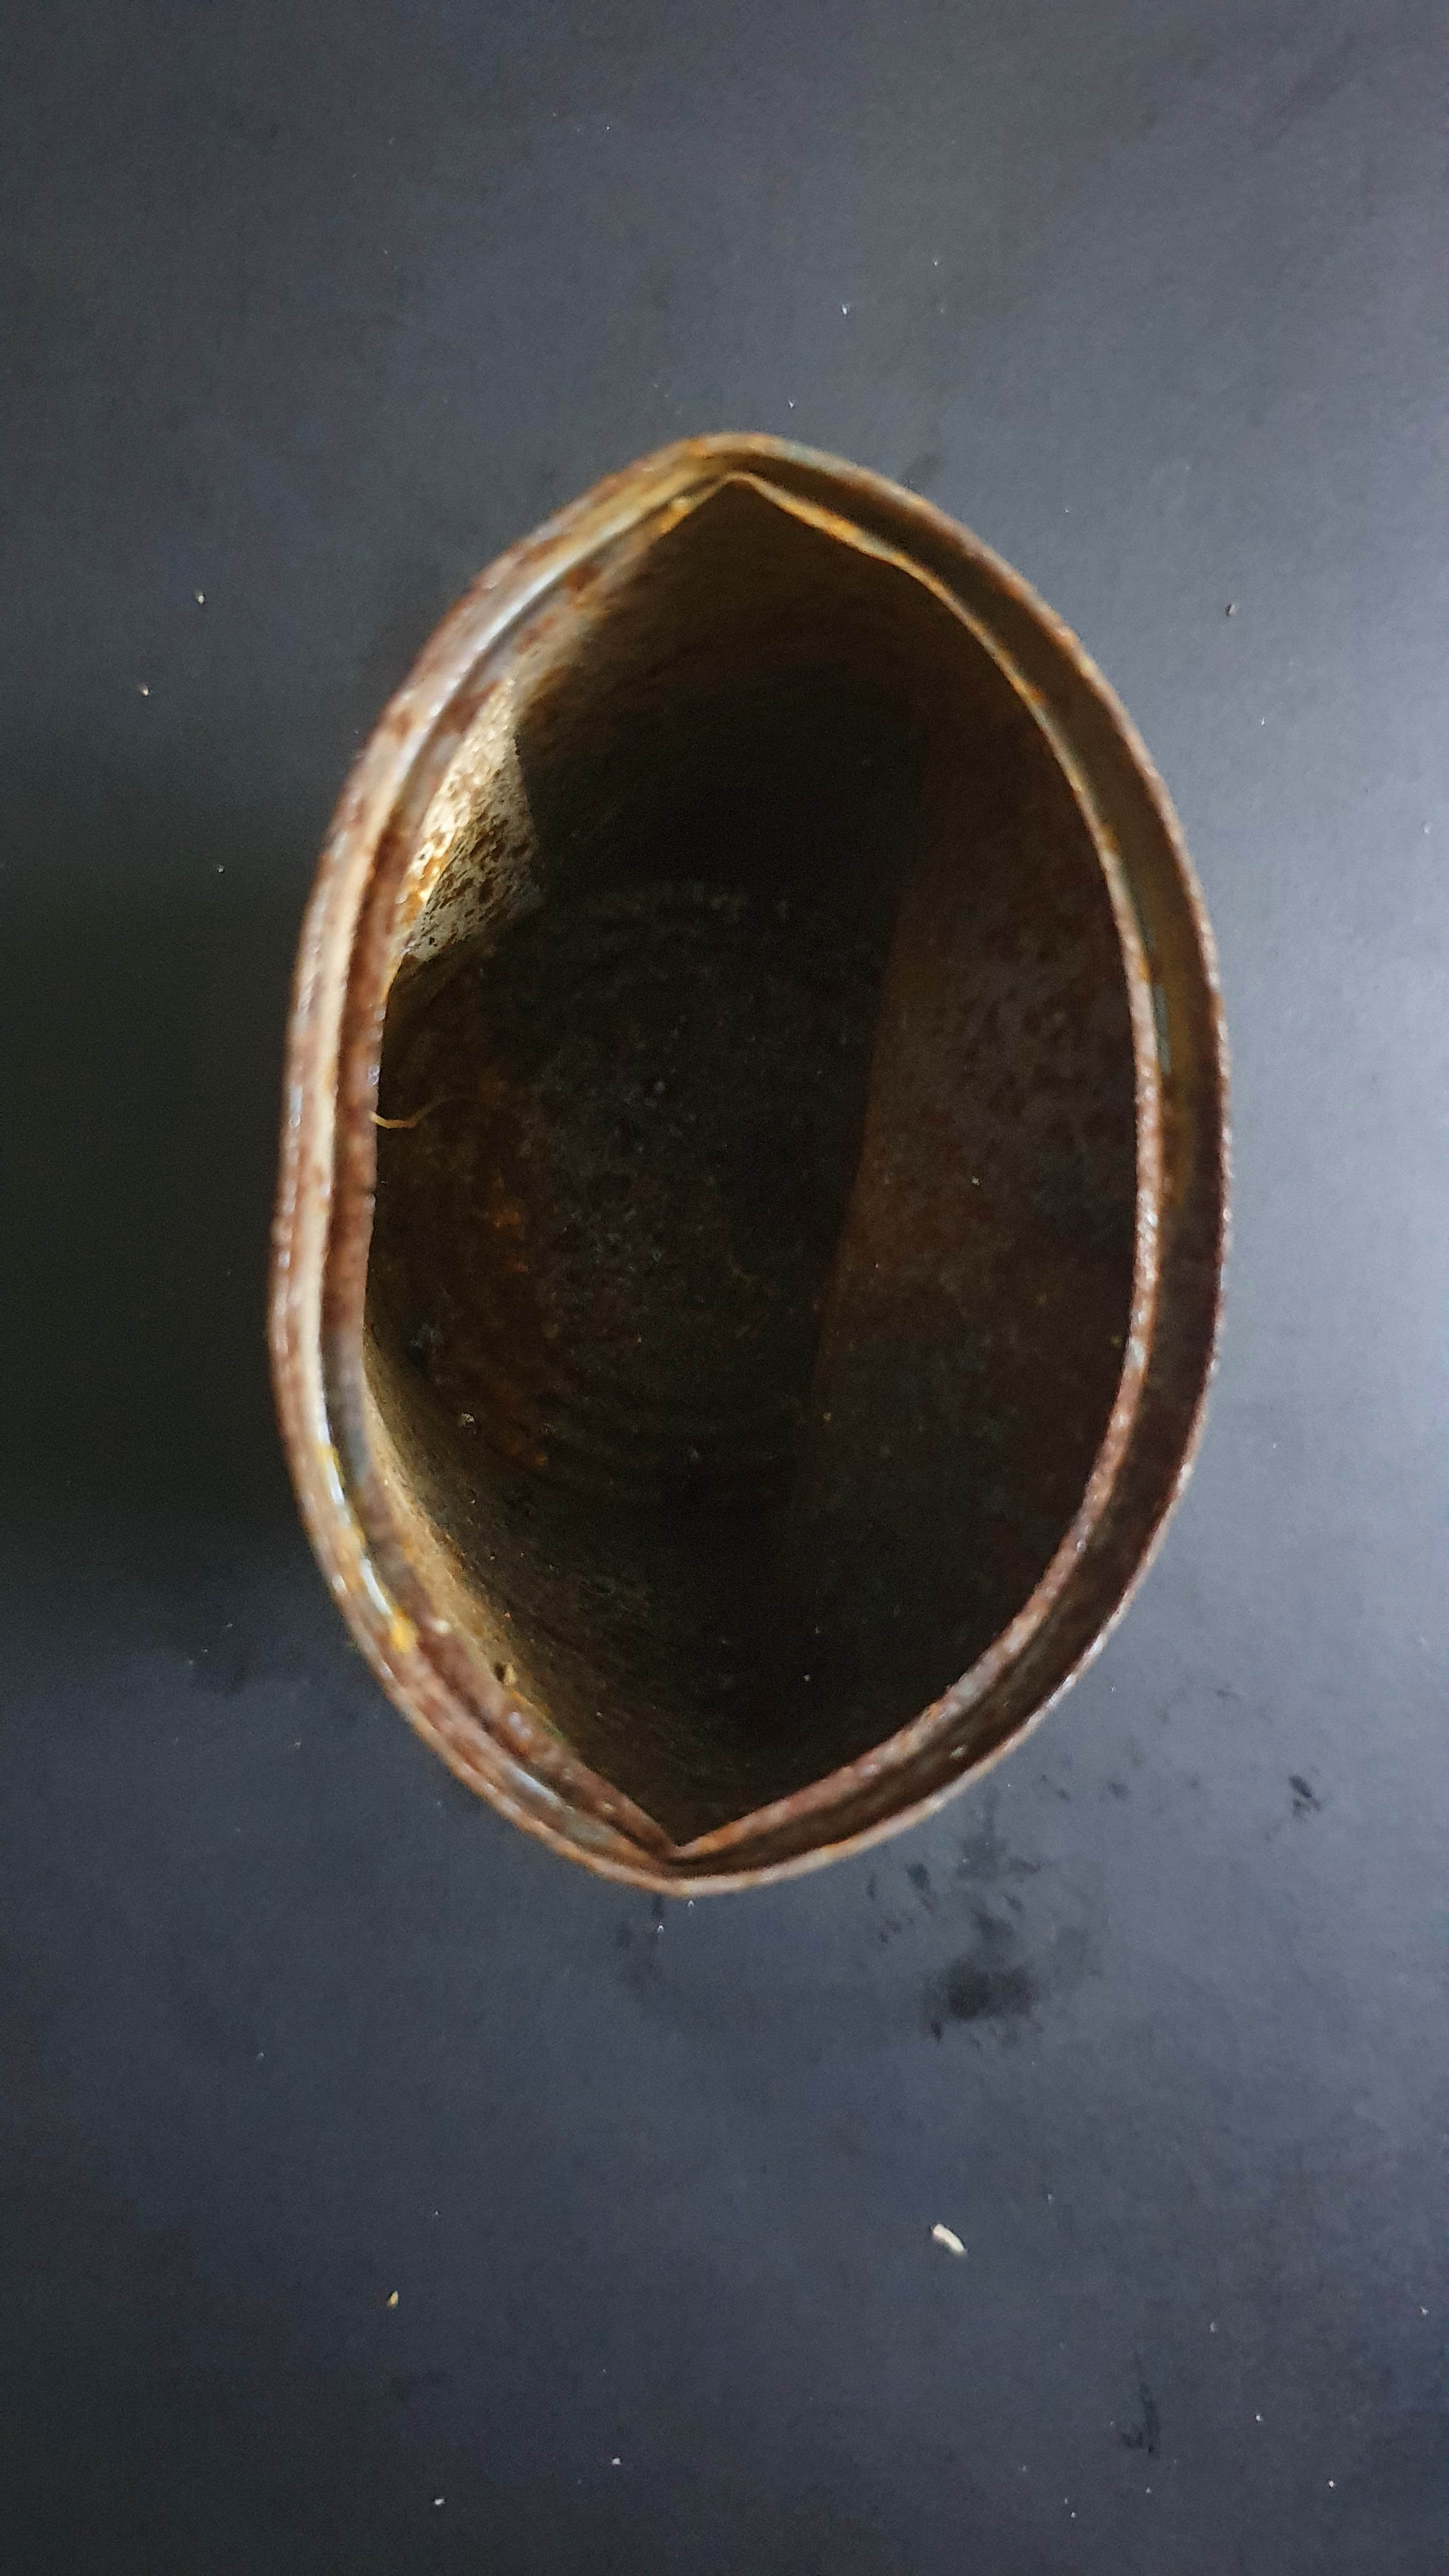metal: (207, 386, 1313, 1980)
